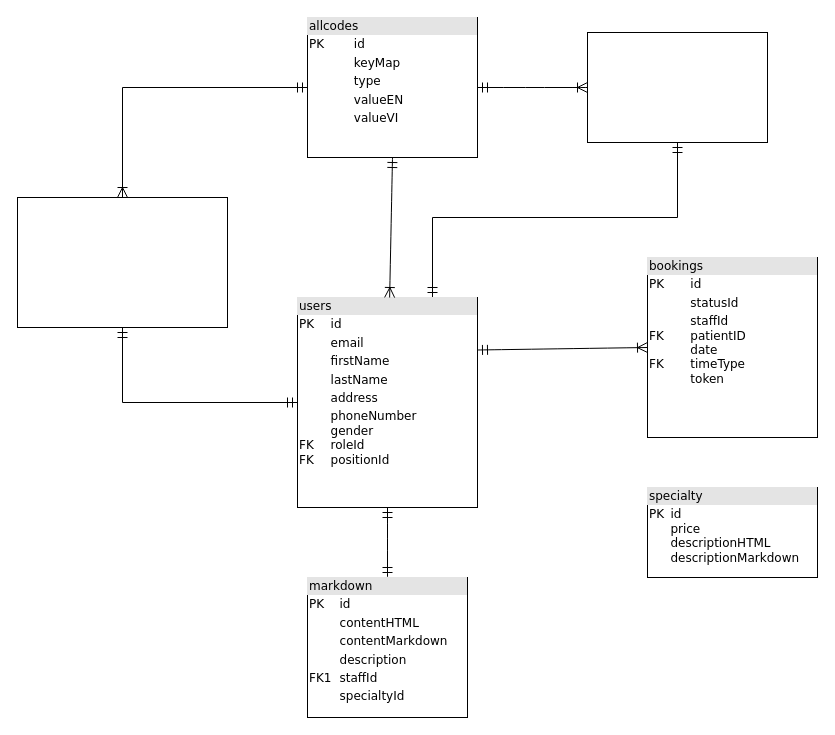
This 835x735 diagram has some shape labels left out. The box of each missing label's shape, as (x1, y1, x2, y2) in pixels:
schedules PK id currentNumber maxNumber date FK timeType FK staffId: (16, 196, 228, 328)
staff_infor PK FK FK FK id staffId specialtyId priceId paymentId count: (586, 32, 768, 142)
